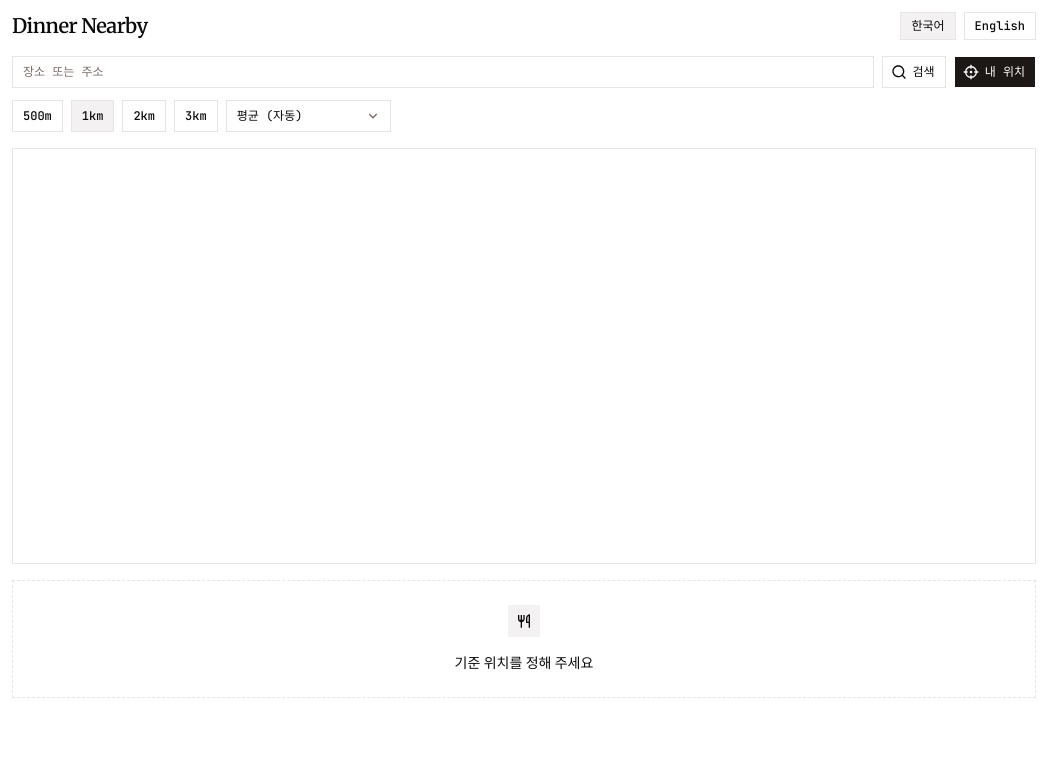
Test: 목록의 각 항목은 이름, 평점, 리뷰 수와 새 탭으로 여는 구글 지도 링크를 보여 준다
Click the button "내 위치": (995, 72) [954, 56, 1036, 88]
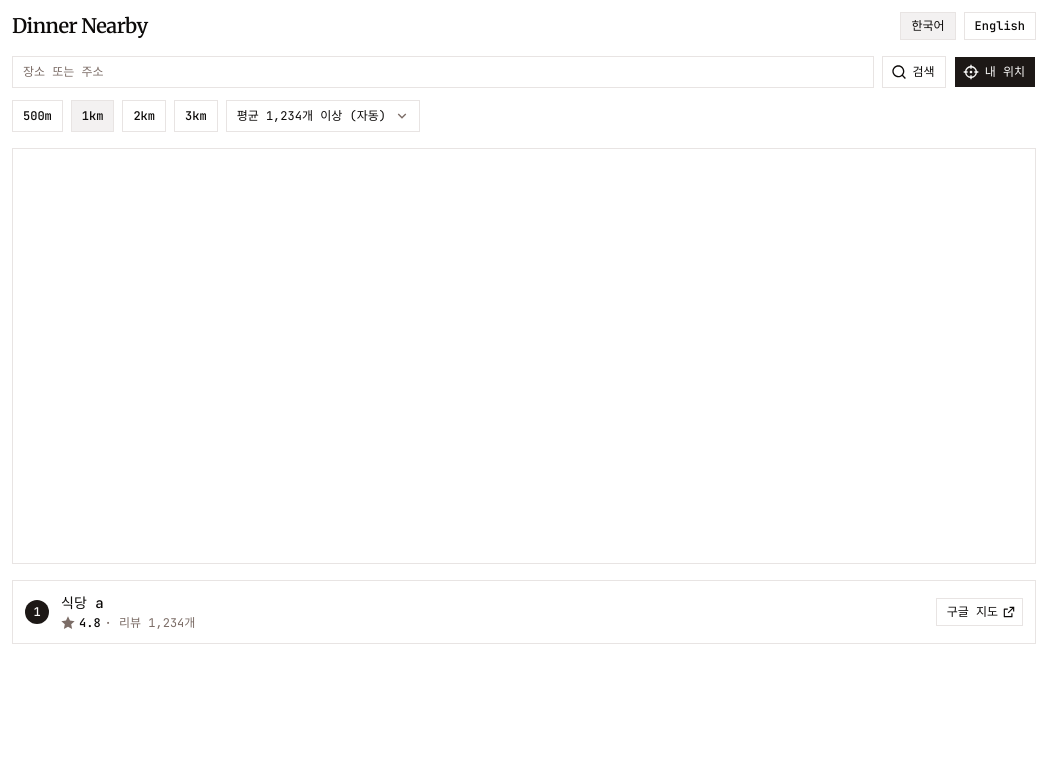
Now the text "식당 a" is shown, box [61, 594, 104, 612]
Now the text "4.8" is shown, box [79, 615, 101, 631]
Now the text "· 리뷰 1,234개" is shown, box [105, 615, 195, 631]
